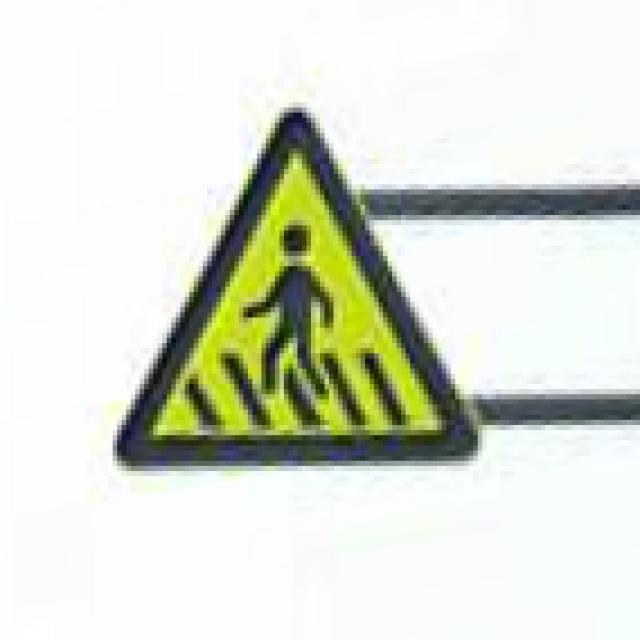Crossing: (110, 90, 497, 500)
